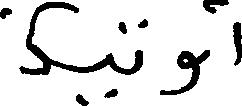X: (0, 0, 75, 79), (164, 46, 197, 99), (134, 17, 141, 77), (105, 48, 112, 102), (234, 17, 241, 70)
